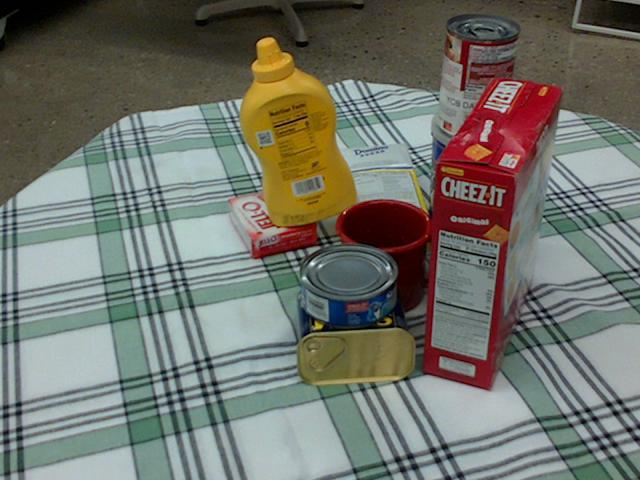cracker_box: (423, 78, 563, 389)
gelatin_box: (228, 188, 316, 260)
master_chef_can: (424, 100, 537, 268)
mug: (335, 200, 458, 316)
mustard_bottle: (238, 38, 355, 225)
potted_meat_can: (299, 274, 418, 383)
sugar_box: (327, 141, 430, 259)
tomato_soup_can: (437, 14, 518, 141)
tuna_fish_can: (299, 244, 398, 328)
